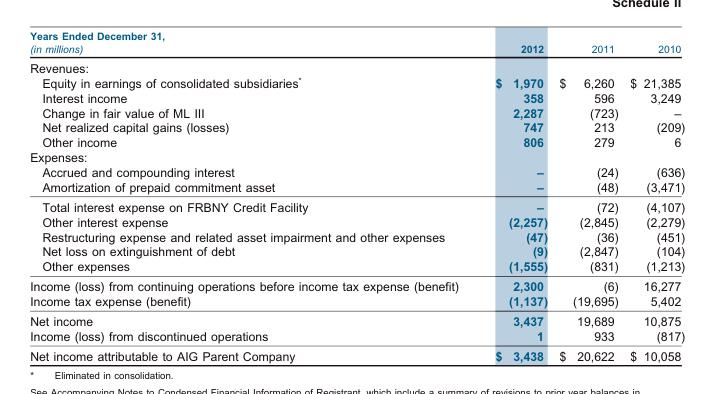table: (29, 29, 684, 362)
table column: (29, 29, 476, 362), (476, 29, 552, 362), (552, 29, 623, 362), (623, 29, 684, 362)
table column header: (29, 29, 684, 57)
table projected row header: (29, 57, 684, 75), (29, 149, 684, 164)
table row: (29, 29, 684, 57), (29, 57, 684, 75), (29, 275, 684, 293), (29, 310, 684, 328), (29, 179, 684, 196), (29, 196, 684, 213), (29, 258, 684, 275), (29, 293, 684, 310), (29, 328, 684, 345), (29, 345, 684, 362), (29, 89, 684, 104), (29, 104, 684, 119), (29, 119, 684, 134), (29, 134, 684, 149), (29, 149, 684, 164), (29, 164, 684, 179), (29, 213, 684, 228), (29, 228, 684, 243), (29, 243, 684, 258), (29, 75, 684, 89)
